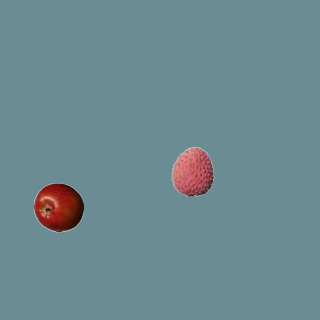Apple Braeburn: (33, 182, 83, 232)
Lychee: (167, 146, 217, 196)
